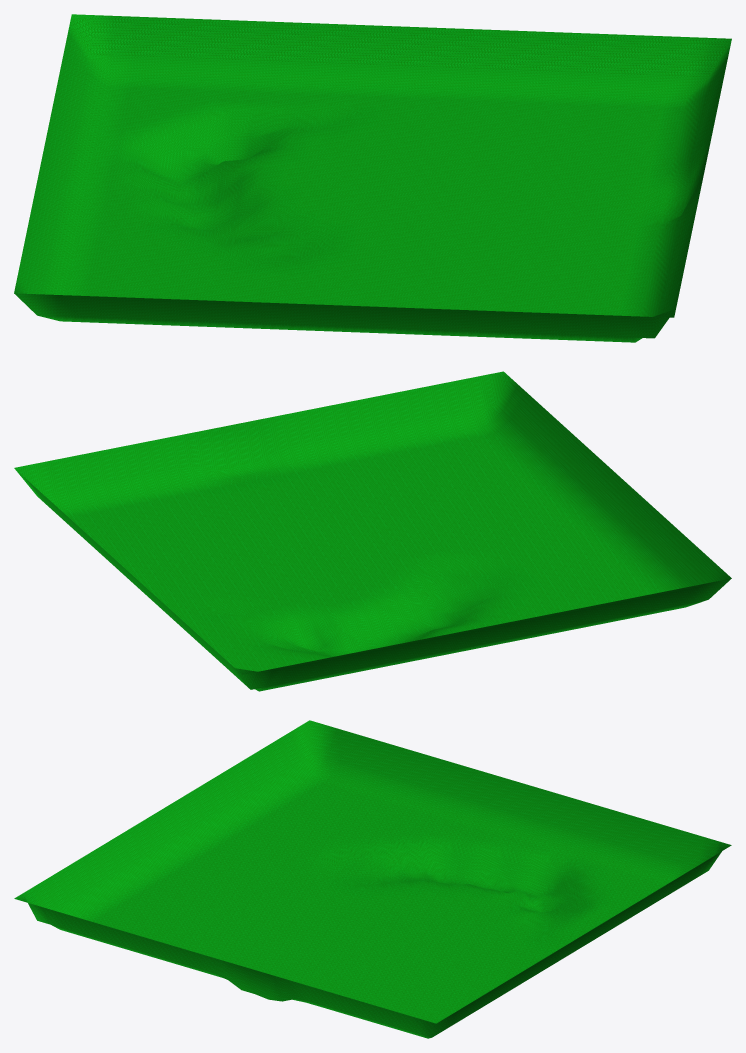
The model's file is yargtrack offroad.glb.
The picture shows the model from 3 angles, top to bottom: view 1: azimuth 30°, elevation 25°; view 2: azimuth 150°, elevation 25°; view 3: azimuth 270°, elevation 25°; orthographic projection. The views are drawn at different scales.
Parts seen in each view (by area): view 1: Plane; view 2: Plane; view 3: Plane.
Part boxes in pixels (box(x1,y1,x2,y2)): Plane: box(14, 14, 731, 342); Plane: box(14, 371, 731, 691); Plane: box(14, 720, 731, 1038).
Size of the model in its own units: 137 by 11.88 by 137.
Materials: 1 (1 with a texture image).
